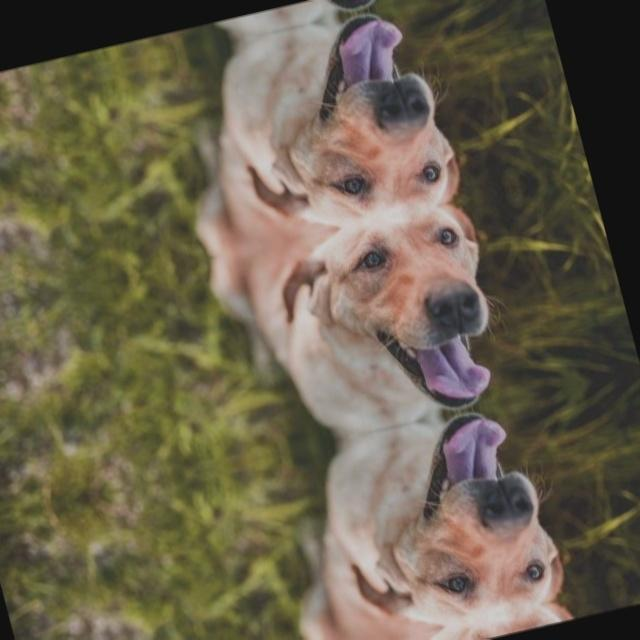dog: (342, 392, 594, 637), (290, 194, 543, 438), (238, 0, 490, 238), (394, 593, 600, 640), (232, 0, 439, 40)
